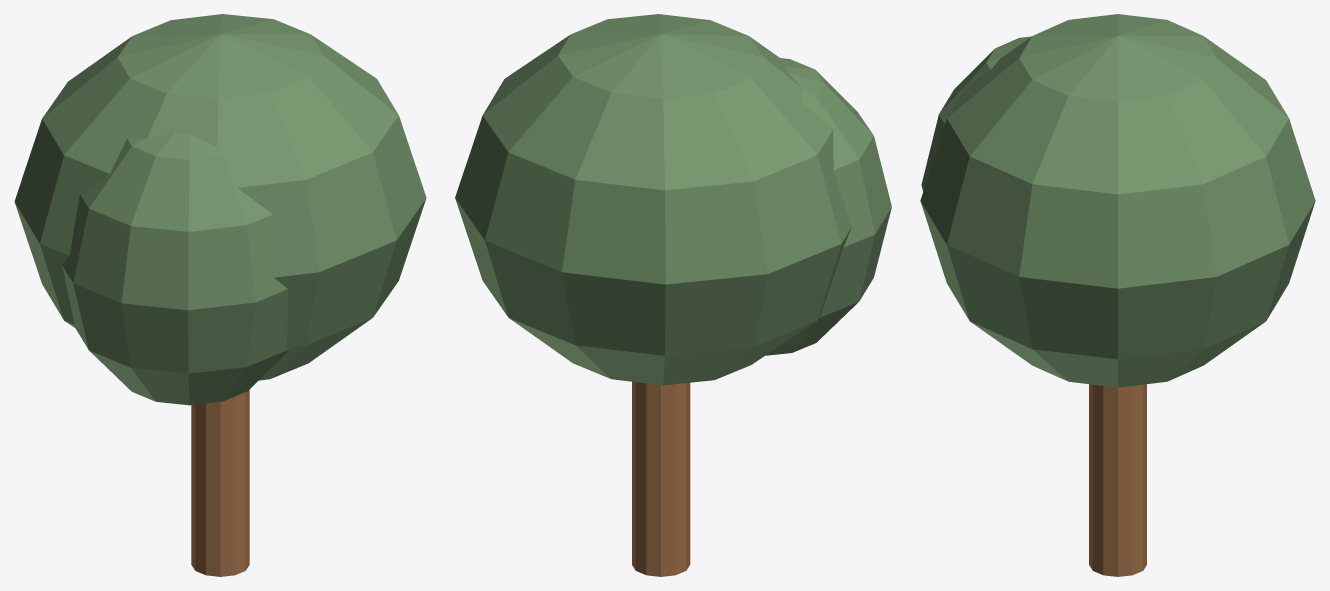
Rendered from young_tree.glb.
3 views of the same model, side by side, from view 1: azimuth 30°, elevation 25°; view 2: azimuth 150°, elevation 25°; view 3: azimuth 270°, elevation 25° (orthographic).
Visible parts, largest first — view 1: young_tree; view 2: young_tree; view 3: young_tree.
Boxes of the visible parts, box(x1,y1,x2,y2) form: young_tree: box(14, 14, 426, 576); young_tree: box(455, 14, 891, 576); young_tree: box(920, 14, 1315, 576).
Size of the model in its own units: 2 by 2.8 by 1.9.
